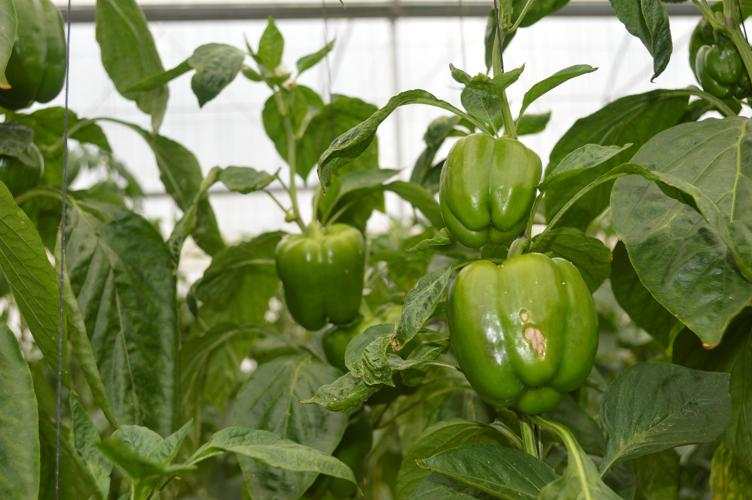BellPepper: (452, 253, 602, 413), (435, 132, 539, 247), (273, 221, 364, 329)
